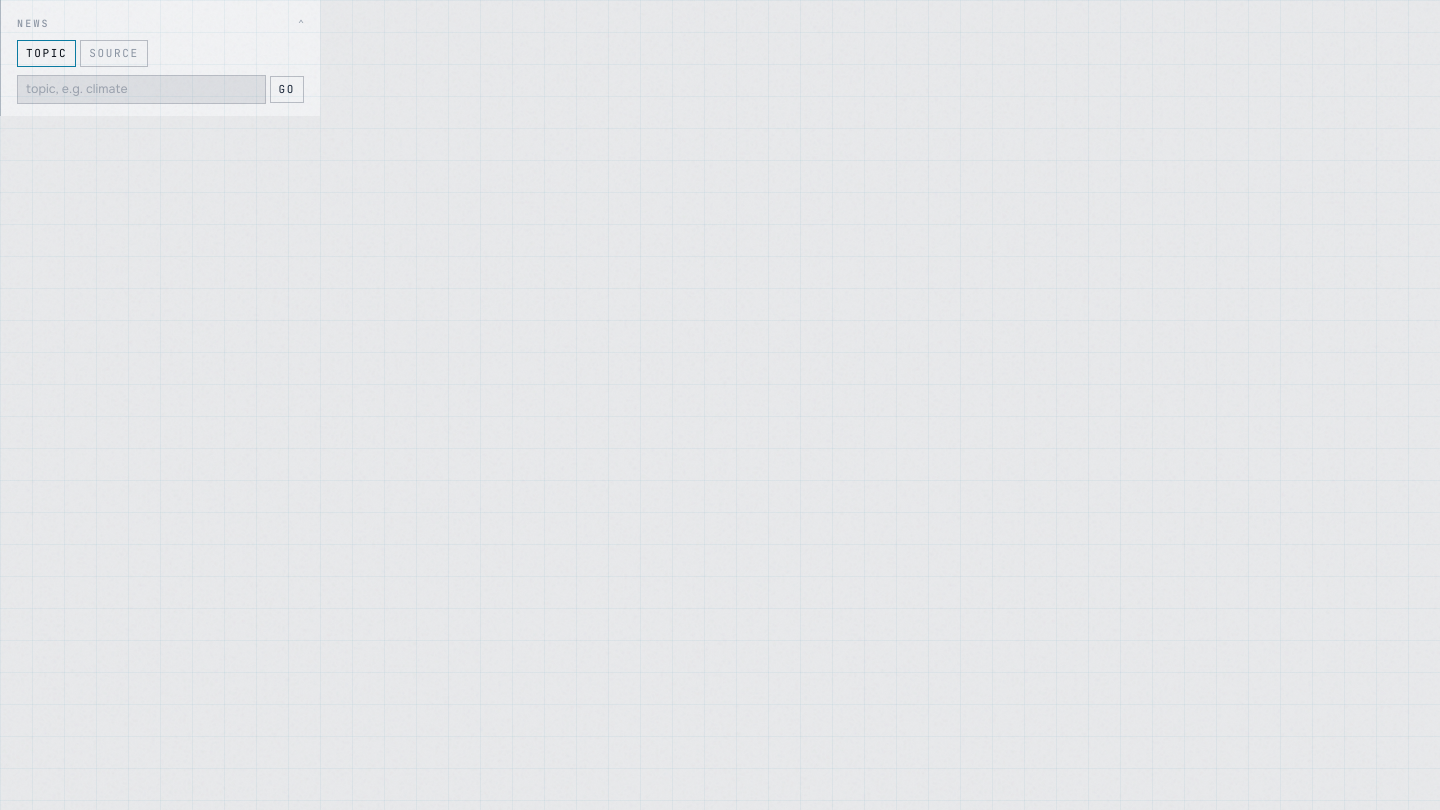
Scenario: NewsWidget › fetches and renders articles when user clicks Go
Step 1. Type "ai" into the field with placeholder "topic, e.g. climate" → (141, 89), box [17,74,266,104]
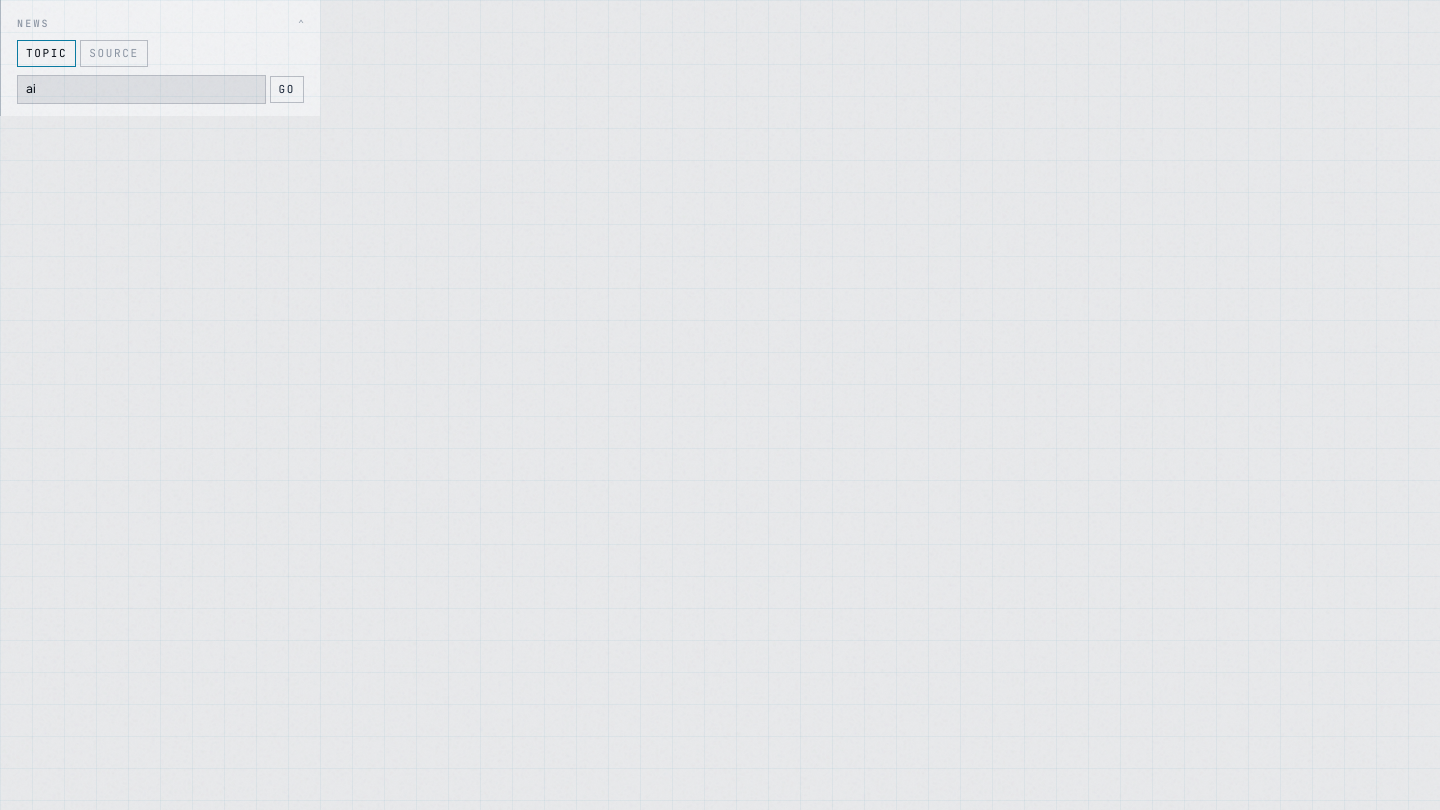
Step 2. Click the button "Go" → (287, 89), box [270,76,304,103]
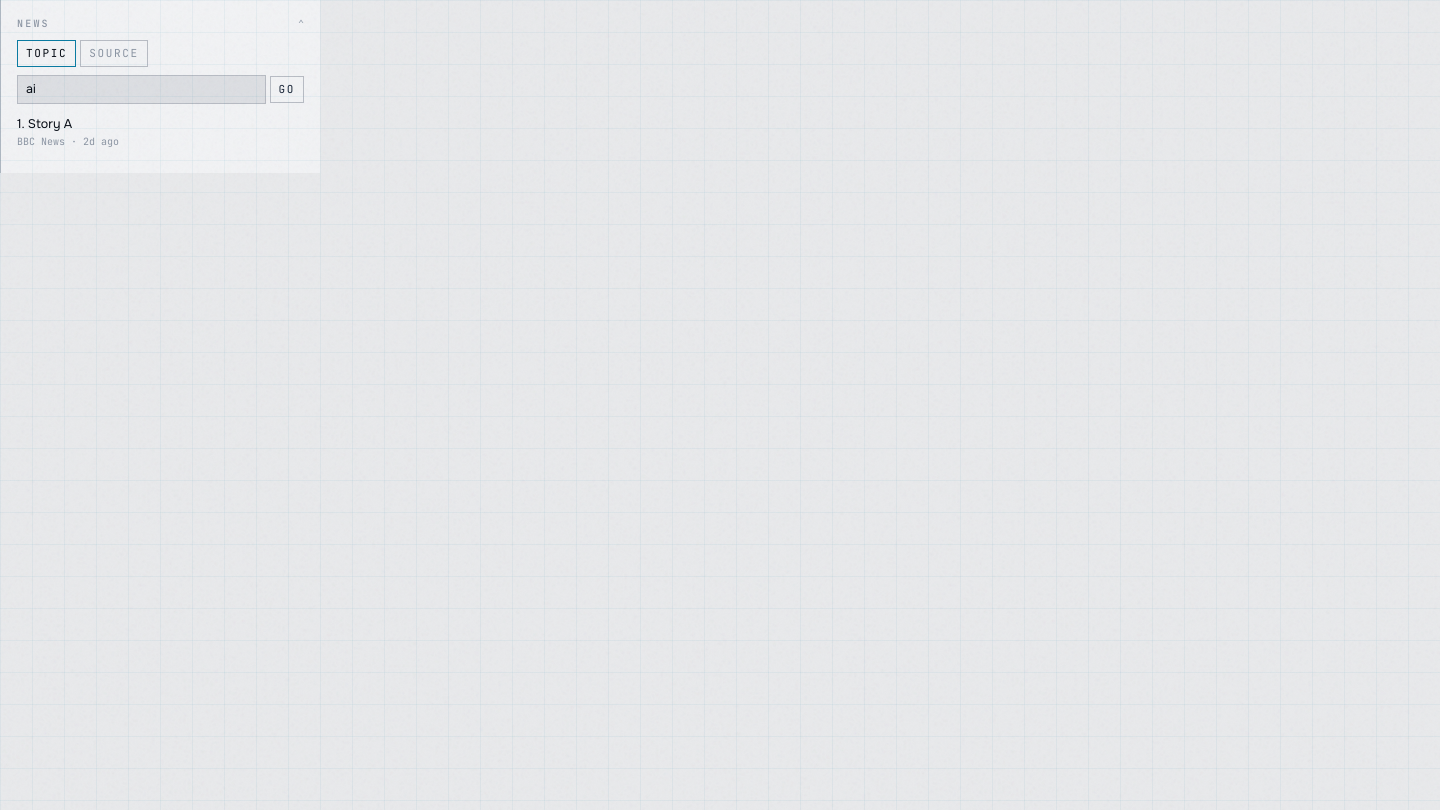
Result: the link "1. Story A" is shown at [17,116,72,132]
Result: the text "BBC News · 2d ago" is shown at [17,135,119,148]
